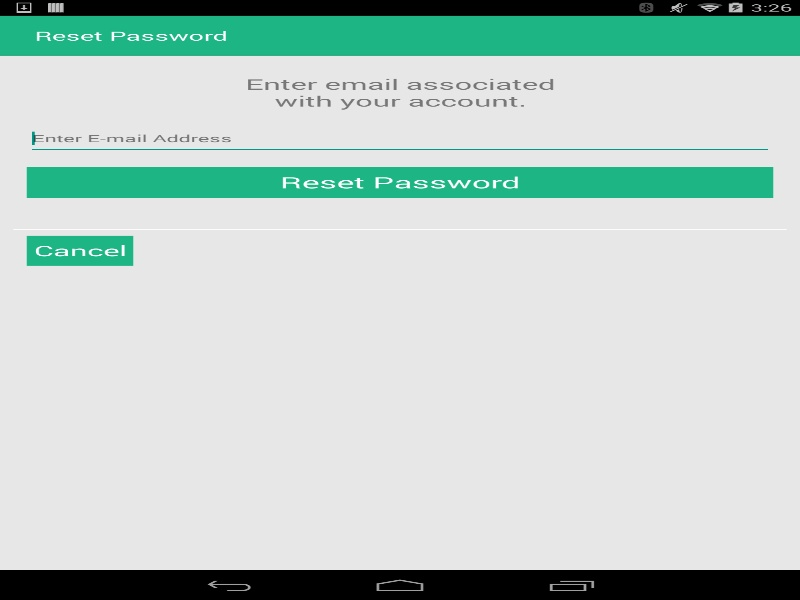Button: (26, 166, 773, 198), (26, 235, 133, 265)
Input: (26, 123, 773, 154)
